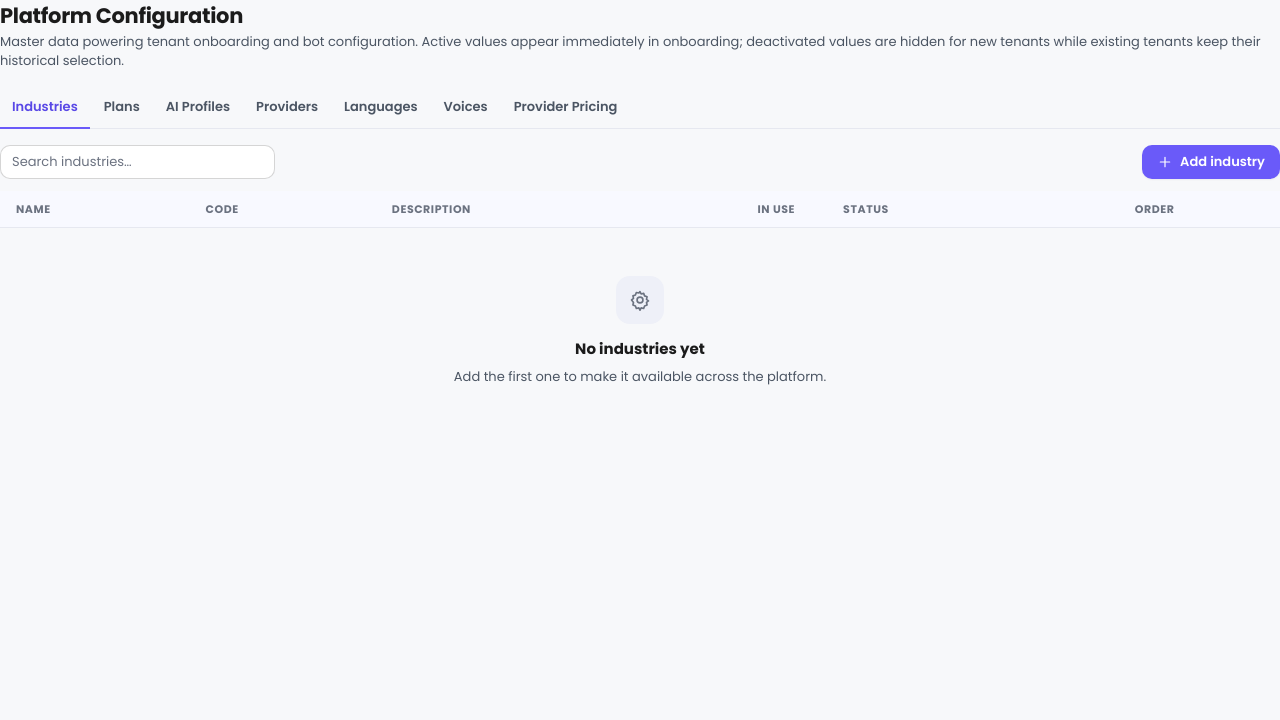
Test: VoiceEditor — provider-specific fields › edit mode loads the saved provider-specific values
Click the tab "Voices". click: (466, 108)
box: left=432, top=86, right=500, bottom=128
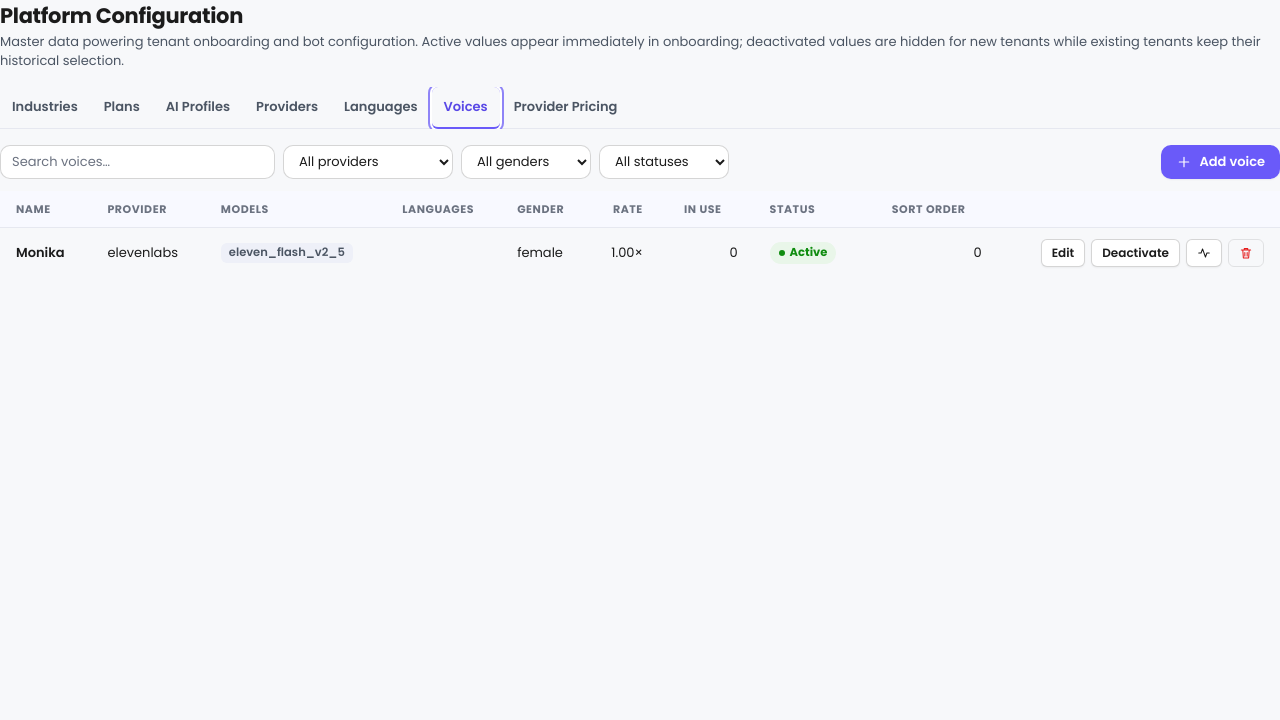
Expected: the text "Monika" is shown, left=16, top=243, right=65, bottom=263
Click the button "Edit". click: (1063, 253)
box: left=1041, top=239, right=1085, bottom=267
(page scrolled)
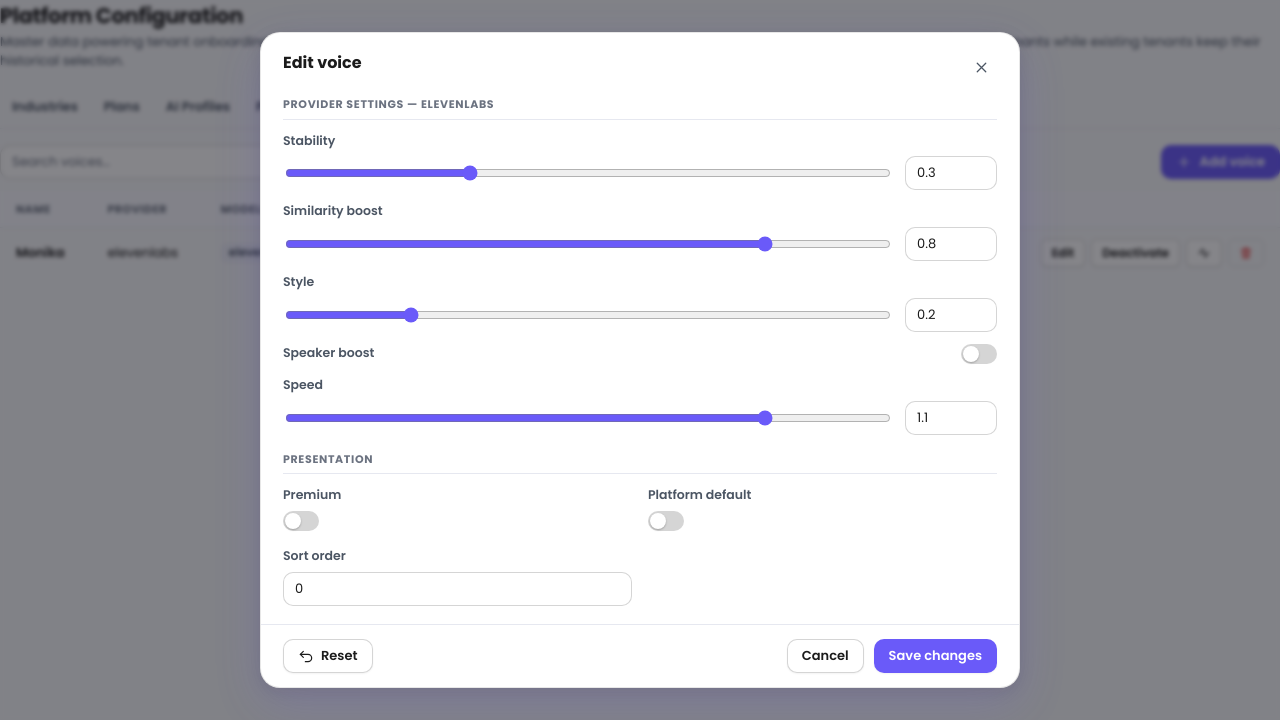
Expected: the dialog "Edit voice" is shown, left=260, top=32, right=1020, bottom=688
Expected: the number field named "Stability value" holds "0.3", left=905, top=156, right=997, bottom=190
Expected: the number field named "Similarity boost value" holds "0.8", left=905, top=227, right=997, bottom=261
